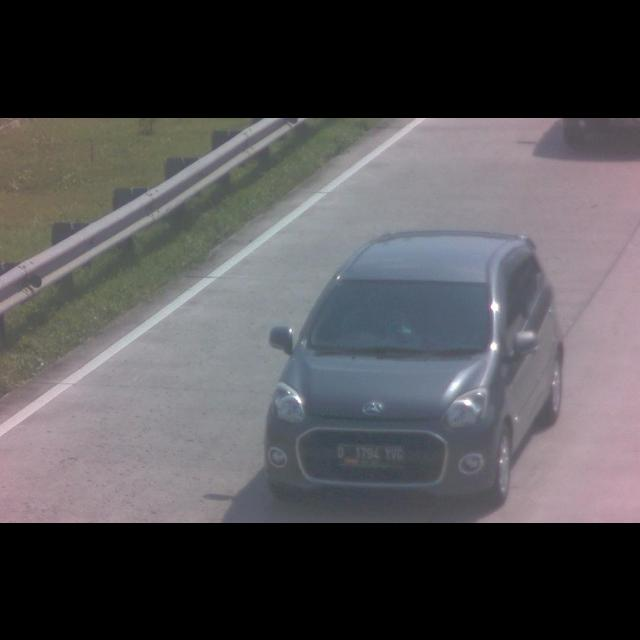plate: (334, 440, 406, 470)
